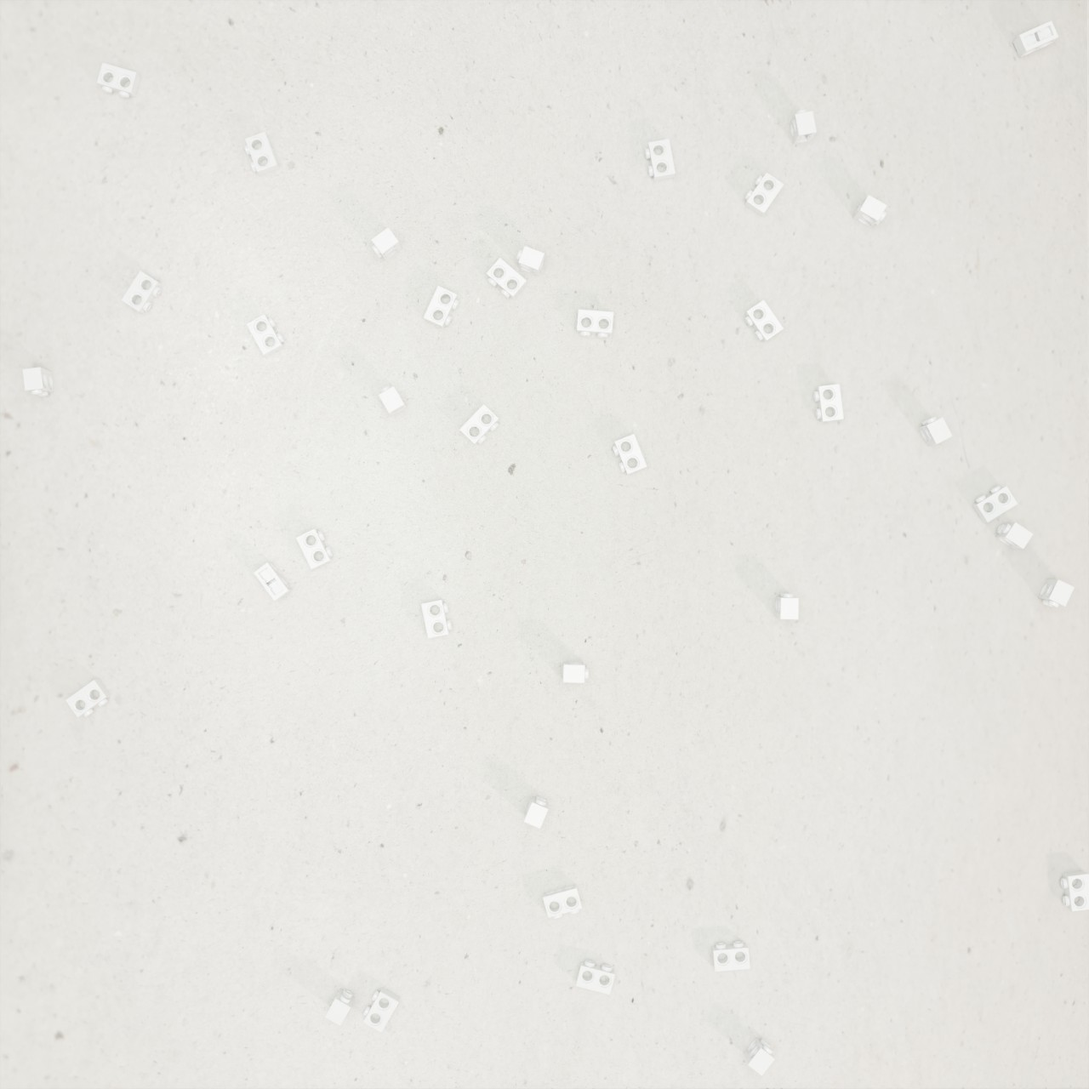lego: (121, 270, 162, 314), (744, 172, 784, 217), (65, 678, 111, 717), (744, 299, 784, 343), (362, 987, 400, 1033), (972, 485, 1018, 523), (486, 257, 527, 299), (1013, 21, 1059, 58), (246, 314, 285, 357), (459, 404, 499, 445), (244, 132, 280, 176), (97, 62, 141, 98), (423, 286, 459, 329), (253, 562, 292, 601), (296, 529, 333, 570), (612, 434, 647, 475), (575, 960, 615, 995), (543, 884, 582, 919), (645, 139, 676, 181), (743, 1037, 775, 1076), (421, 599, 452, 639), (813, 384, 844, 423), (711, 941, 750, 972), (1060, 870, 1089, 911), (325, 988, 355, 1026), (853, 195, 887, 228), (576, 309, 614, 338), (918, 416, 953, 447), (1038, 579, 1075, 608), (371, 227, 402, 261), (995, 522, 1033, 549), (789, 109, 817, 144), (22, 367, 54, 397), (378, 385, 408, 416), (516, 246, 545, 276), (524, 796, 548, 829), (775, 593, 799, 620), (563, 662, 589, 683)
